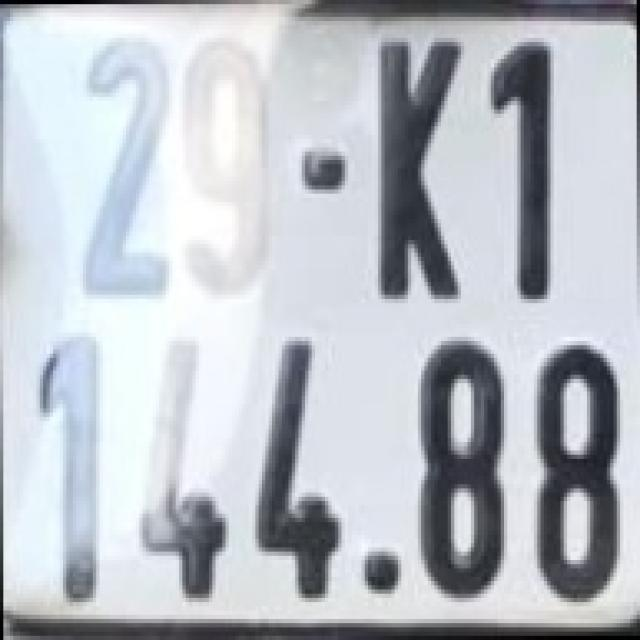1: (33, 331, 113, 604), (489, 38, 566, 303)
2: (73, 30, 176, 303)
4: (136, 329, 232, 602), (254, 333, 346, 602)
8: (416, 333, 509, 602), (532, 339, 625, 600)
9: (179, 33, 272, 294)
K: (375, 34, 464, 303)
